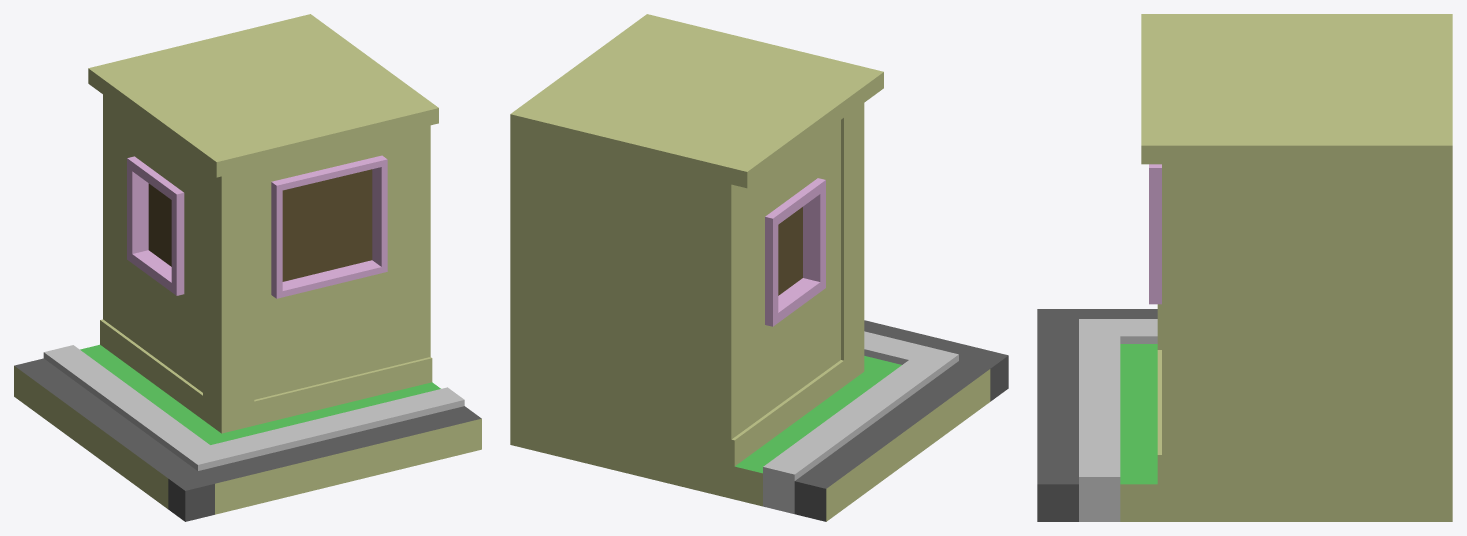
File: corner.fbx
3 views of the same model, side by side, from view 1: azimuth 30°, elevation 25°; view 2: azimuth 150°, elevation 25°; view 3: azimuth 270°, elevation 25° (orthographic). The views are drawn at different scales.
Parts seen in each view (by area): view 1: Cube; view 2: Cube; view 3: Cube.
Boxes of the visible parts, x1,y1,x2,y2 form: Cube: (14, 14, 481, 521); Cube: (510, 14, 1008, 521); Cube: (1037, 14, 1452, 521).
Size of the model in its own units: 200 by 200 by 200.
